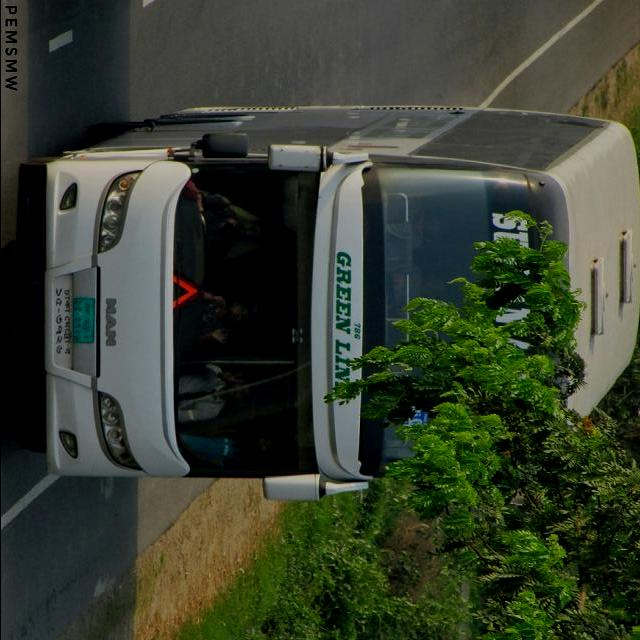bus: (17, 105, 639, 502)
